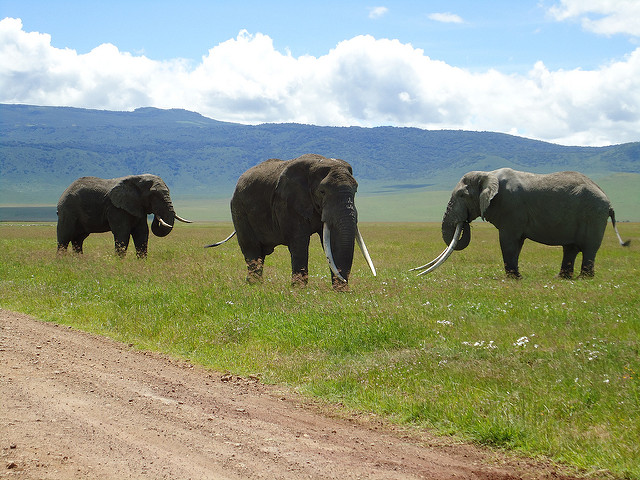elephant: (405, 161, 635, 292), (213, 150, 391, 296), (49, 169, 200, 275)
